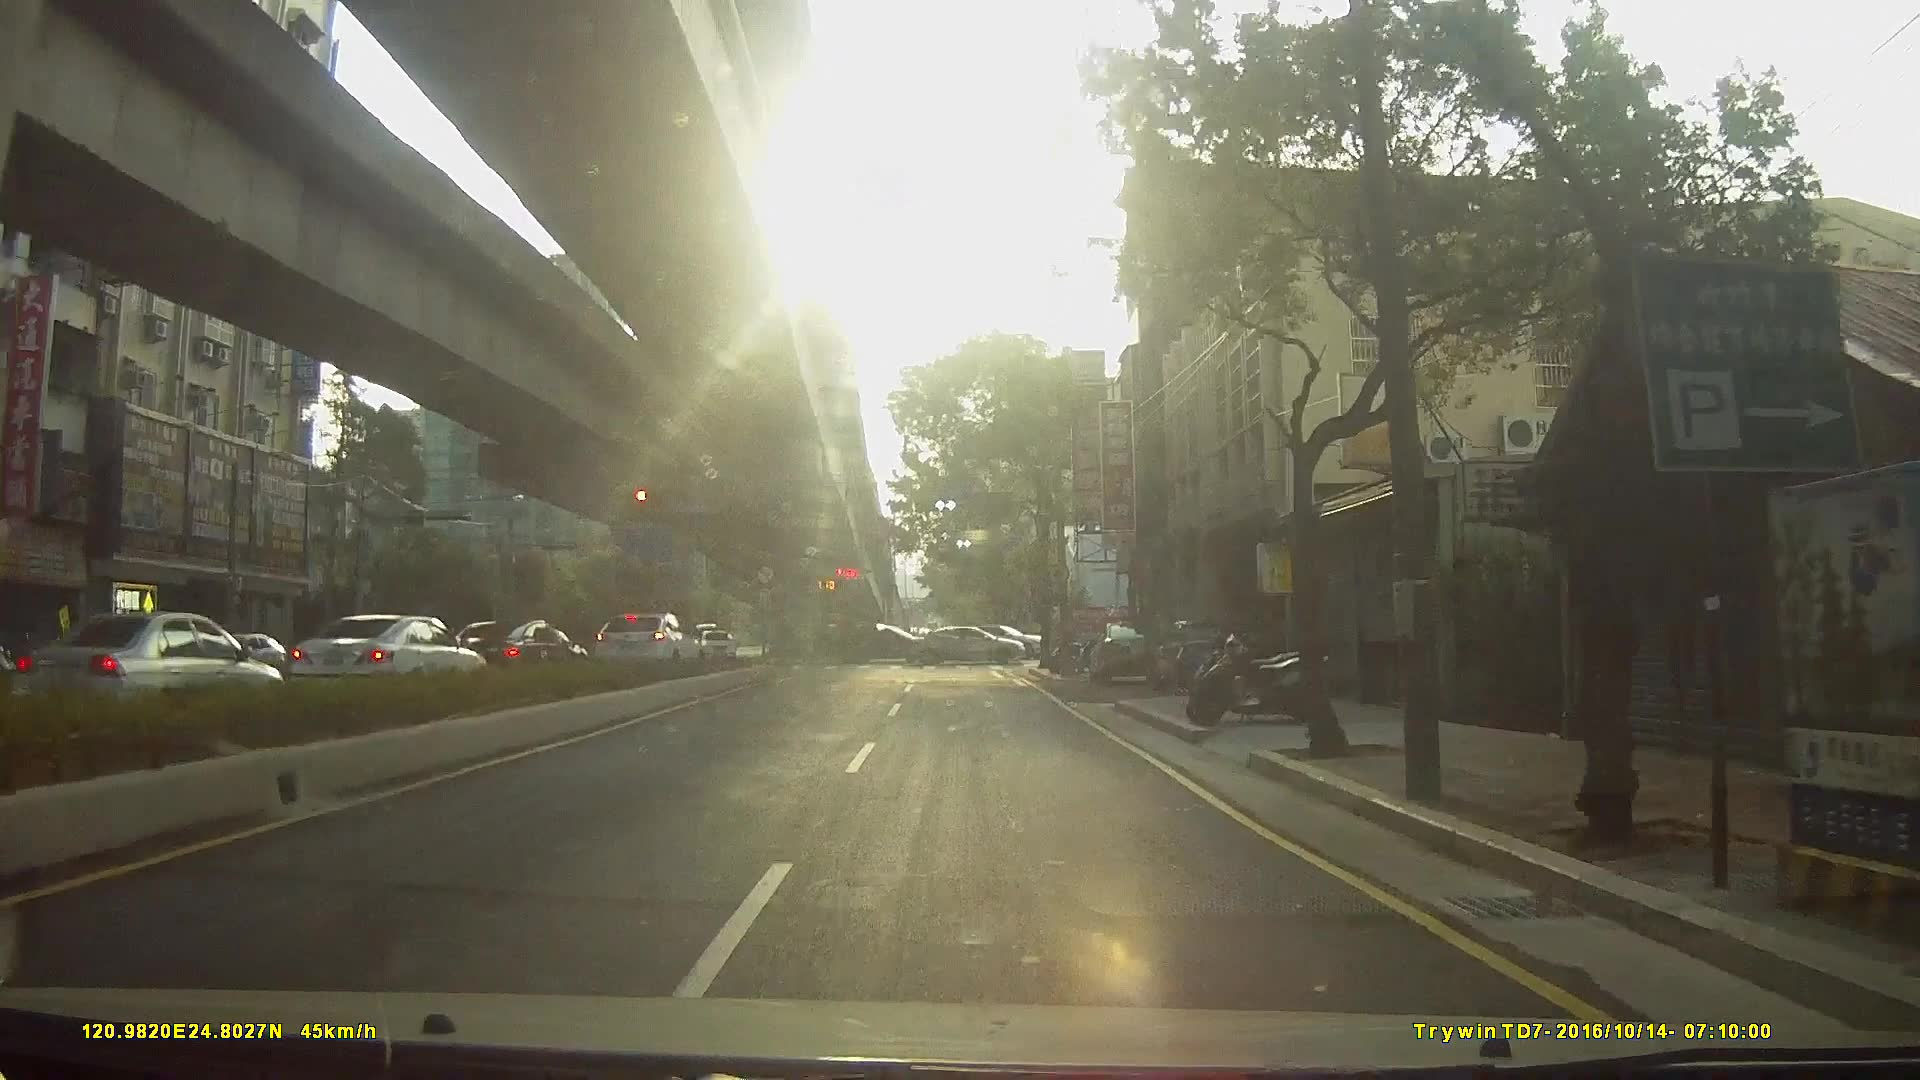vehicle: (3, 612, 281, 728), (277, 613, 483, 702), (434, 616, 584, 684), (588, 611, 703, 673), (1155, 620, 1246, 698), (1085, 618, 1168, 687), (909, 622, 1033, 665), (843, 622, 934, 665), (694, 626, 733, 662)
